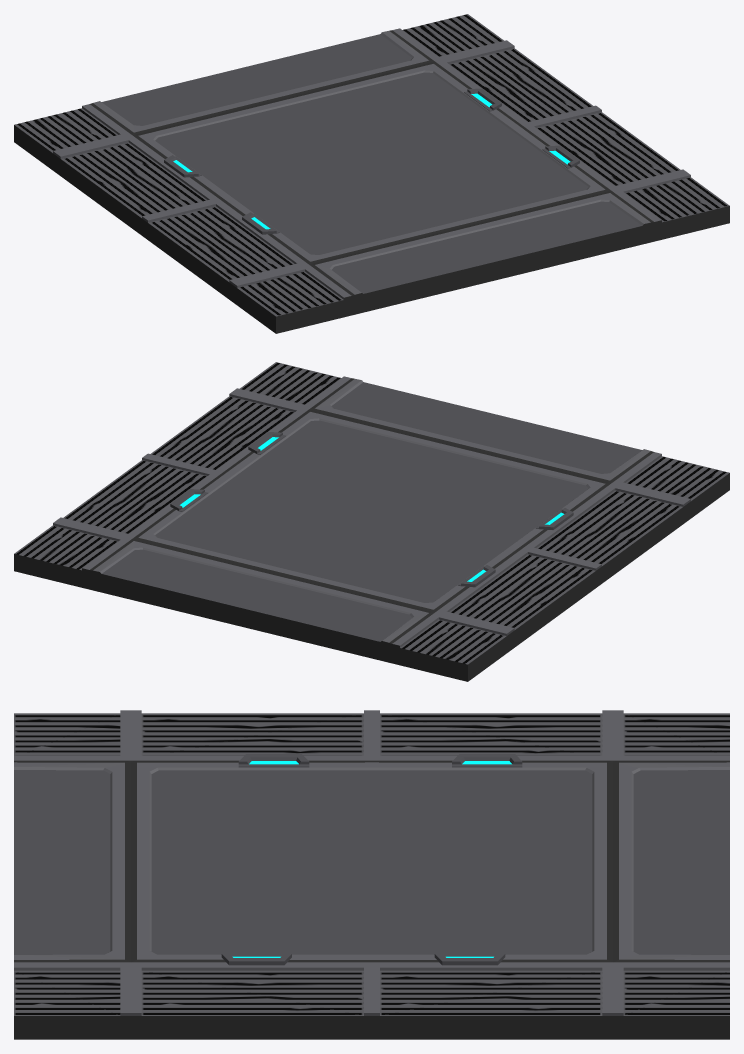
The model's file is SM_Bld_Floor_011.fbx.
3 views of the same model, one above another, from view 1: azimuth 30°, elevation 25°; view 2: azimuth 150°, elevation 25°; view 3: azimuth 270°, elevation 25° (orthographic). The views are drawn at different scales.
Visible parts, largest first — view 1: SM_Bld_Floor_011_LOD0; view 2: SM_Bld_Floor_011_LOD0; view 3: SM_Bld_Floor_011_LOD0.
Part boxes in pixels (left/top/right/bottom): SM_Bld_Floor_011_LOD0: left=14, top=14, right=729, bottom=333; SM_Bld_Floor_011_LOD0: left=14, top=362, right=729, bottom=681; SM_Bld_Floor_011_LOD0: left=14, top=710, right=729, bottom=1039.
Size of the model in its own units: 500 by 500 by 23.72.
Materials: 1 (1 with a texture image).
